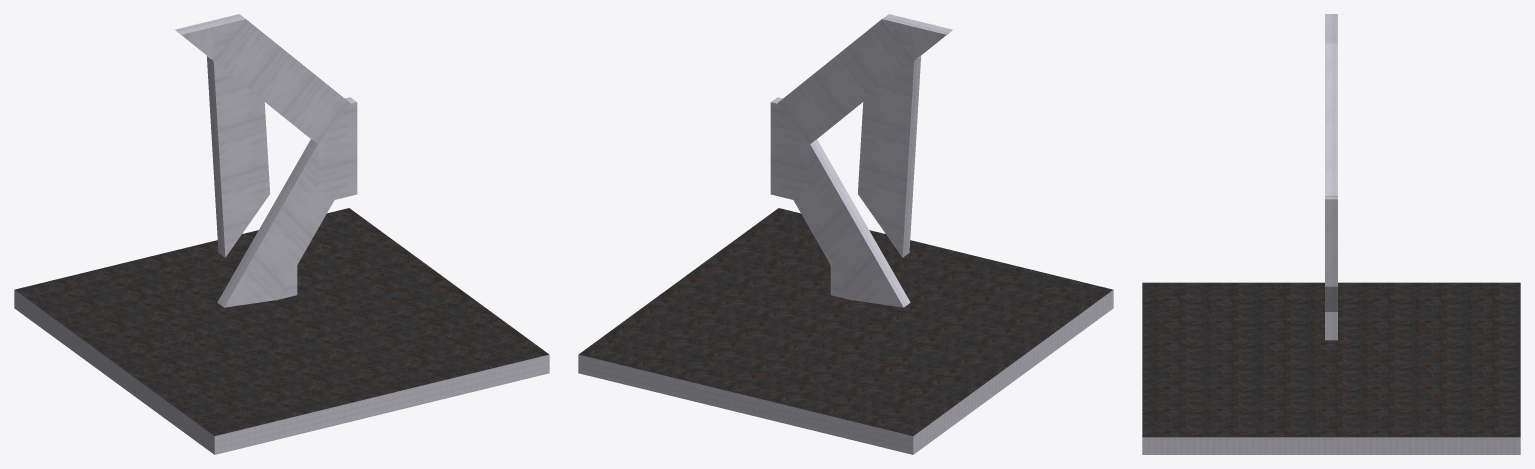
File: DeimosMainScreen.fbx
3 renders of one model, left to right at view 1: azimuth 30°, elevation 25°; view 2: azimuth 150°, elevation 25°; view 3: azimuth 270°, elevation 25°, orthographic. The views are drawn at different scales.
Visible parts, largest first — view 1: Mesh, Mesh_005, Mesh_003, Mesh_006, Mesh_002, Mesh_001, Mesh_007; view 2: Mesh, Mesh_005, Mesh_003, Mesh_006, Mesh_002, Mesh_001, Mesh_007; view 3: Mesh, Mesh_006, Mesh_002.
Part boxes in pixels (x1,y1,x2,y2): Mesh: (14,208,549,454); Mesh_005: (207,56,270,257); Mesh_003: (217,139,334,307); Mesh_006: (213,15,350,144); Mesh_002: (318,97,357,203); Mesh_001: (175,22,213,60); Mesh_007: (207,14,245,59); Mesh: (578,208,1113,454); Mesh_005: (857,56,920,257); Mesh_003: (792,139,910,307); Mesh_006: (777,15,914,143); Mesh_002: (770,97,809,203); Mesh_001: (914,22,952,60); Mesh_007: (882,14,920,59); Mesh: (1142,282,1520,454); Mesh_006: (1325,43,1337,196); Mesh_002: (1325,196,1337,286).
Size of the model in its own units: 325 by 309 by 336.
3 materials, 2 textured.
